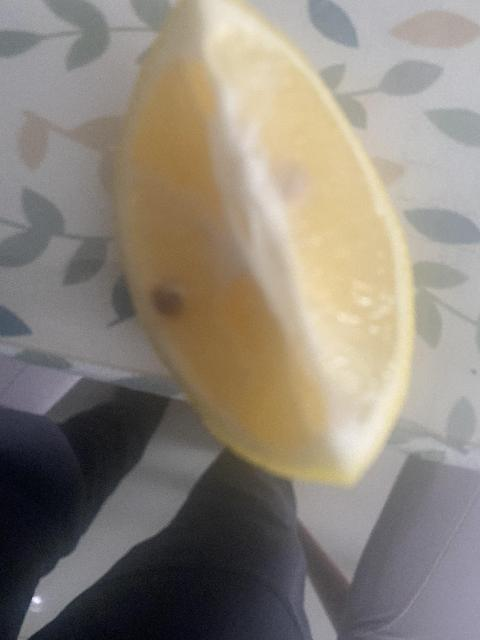Organik: (125, 0, 406, 475)
